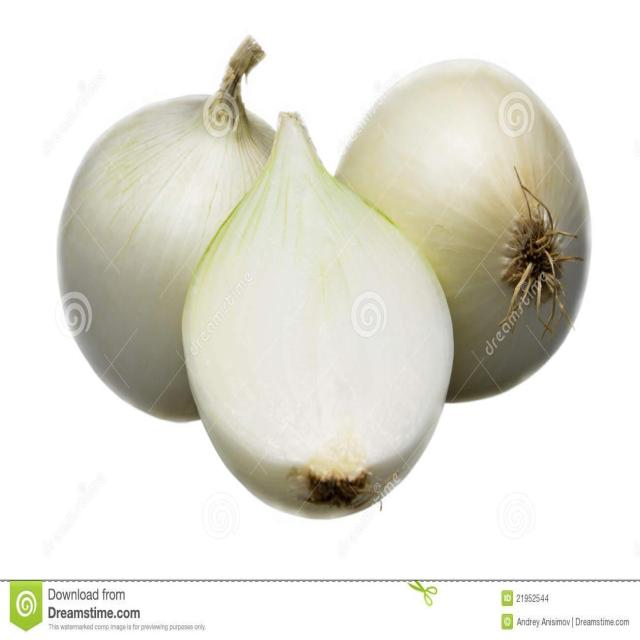Onion: (180, 111, 456, 521), (334, 55, 591, 401), (55, 34, 276, 424)
